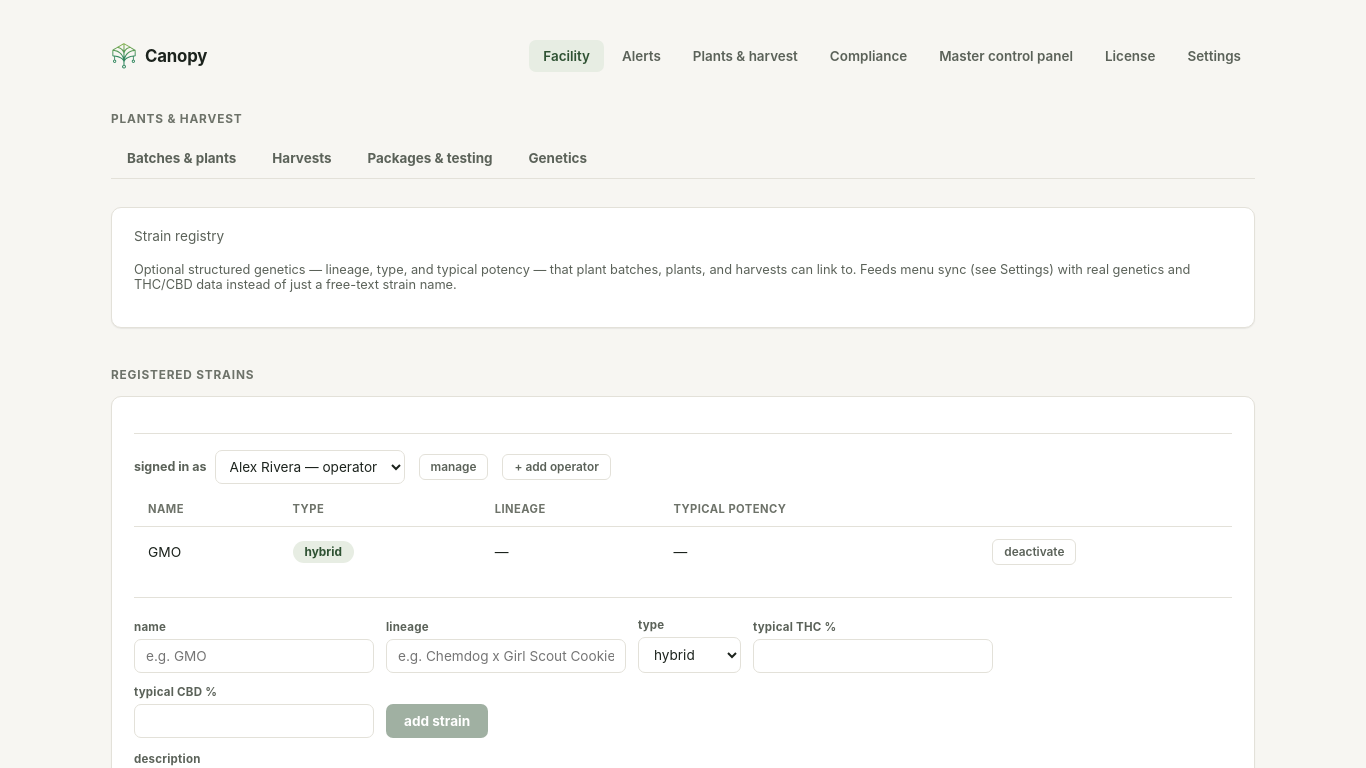
Test: Genetics › deactivates a strain
Expected: the text "GMO" is shown, [134, 526, 279, 577]
Click the button "deactivate" at (1034, 552), box [992, 539, 1076, 565]
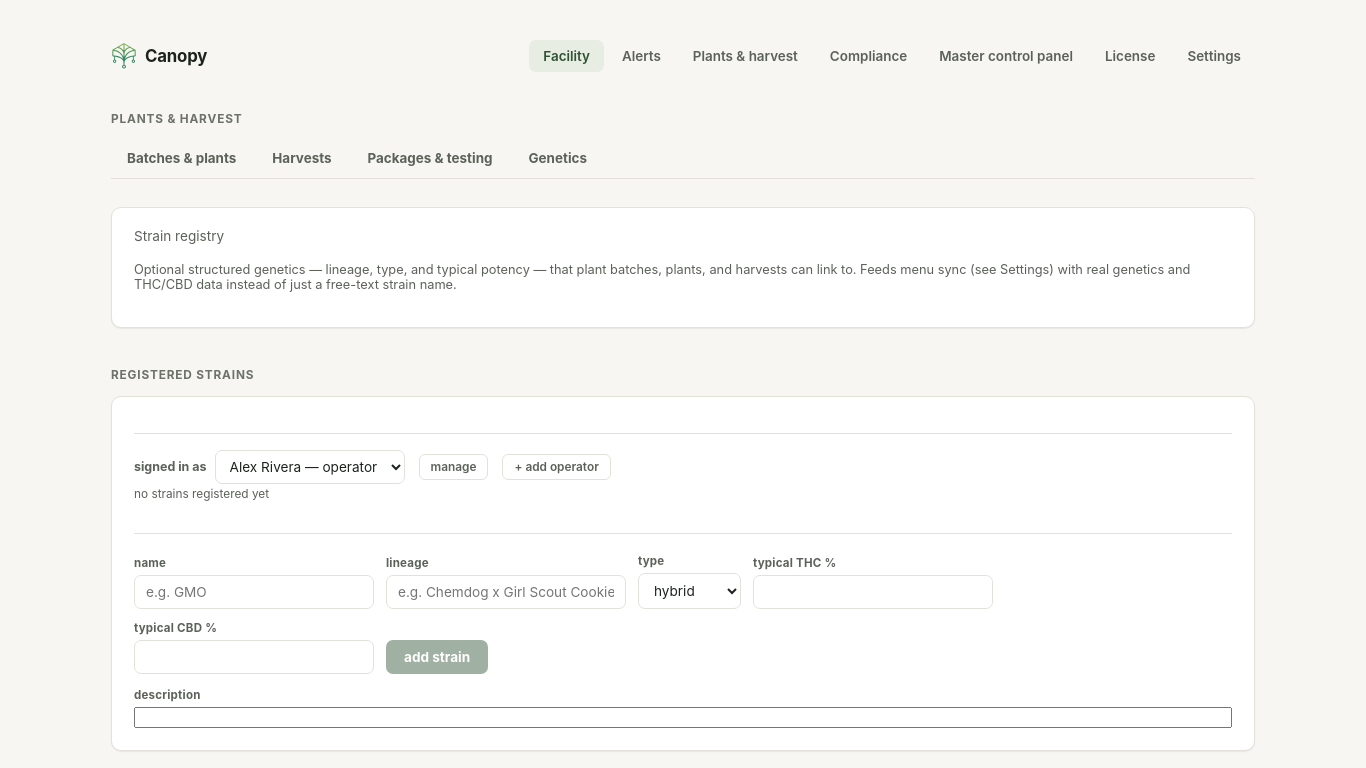
Expected: the text "no strains registered yet" is shown, [134, 487, 269, 501]
